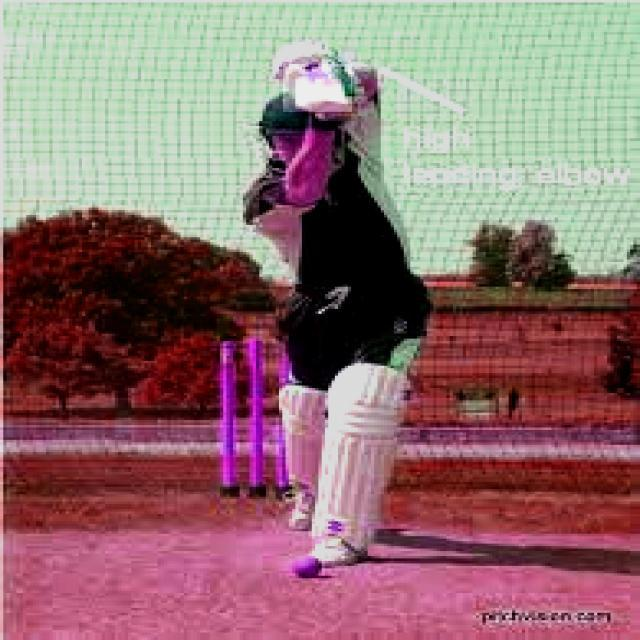bat: (285, 58, 363, 115)
toe: (299, 98, 356, 115)
